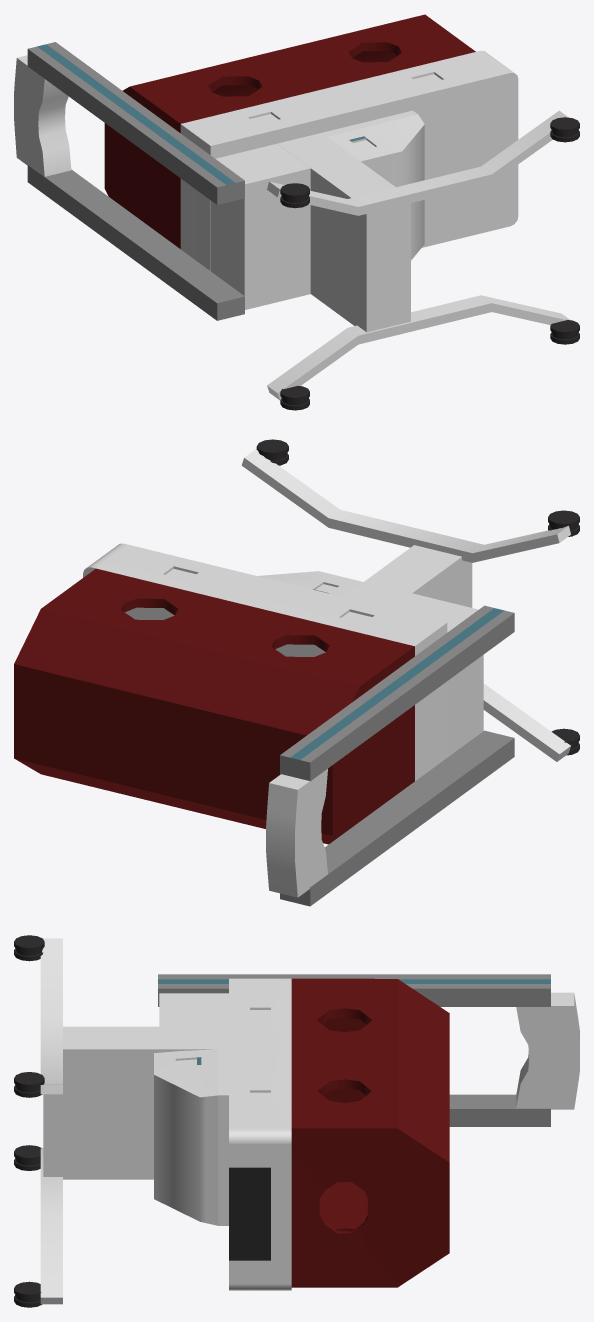
3 renders of one model, top to bottom at view 1: azimuth 30°, elevation 25°; view 2: azimuth 150°, elevation 25°; view 3: azimuth 270°, elevation 25°, orthographic. The views are drawn at different scales.
Parts seen in each view (by area): view 1: Cube.003; view 2: Cube.003; view 3: Cube.003.
Boxes of the visible parts, x1,y1,x2,y2 form: Cube.003: (14, 14, 579, 410); Cube.003: (14, 439, 579, 906); Cube.003: (14, 935, 579, 1307).
Bounding box in the file's own units: 109 × 66.57 × 153.
